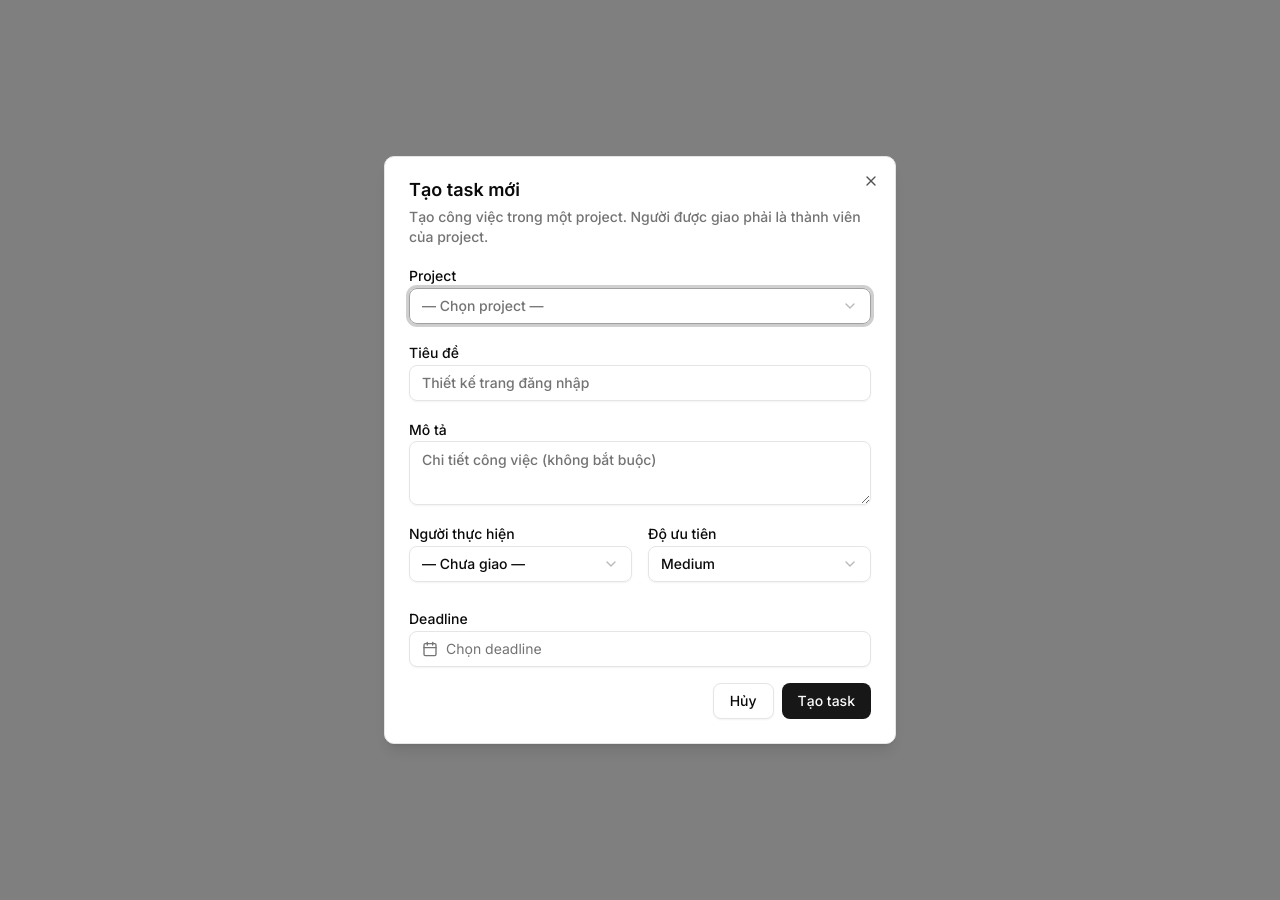
Test: <TaskFormDialog /> › requires a project before submitting
Type "Orphan" into the field with placeholder "Thiết kế trang đăng nhập" at (640, 383), box [409,365,871,401]
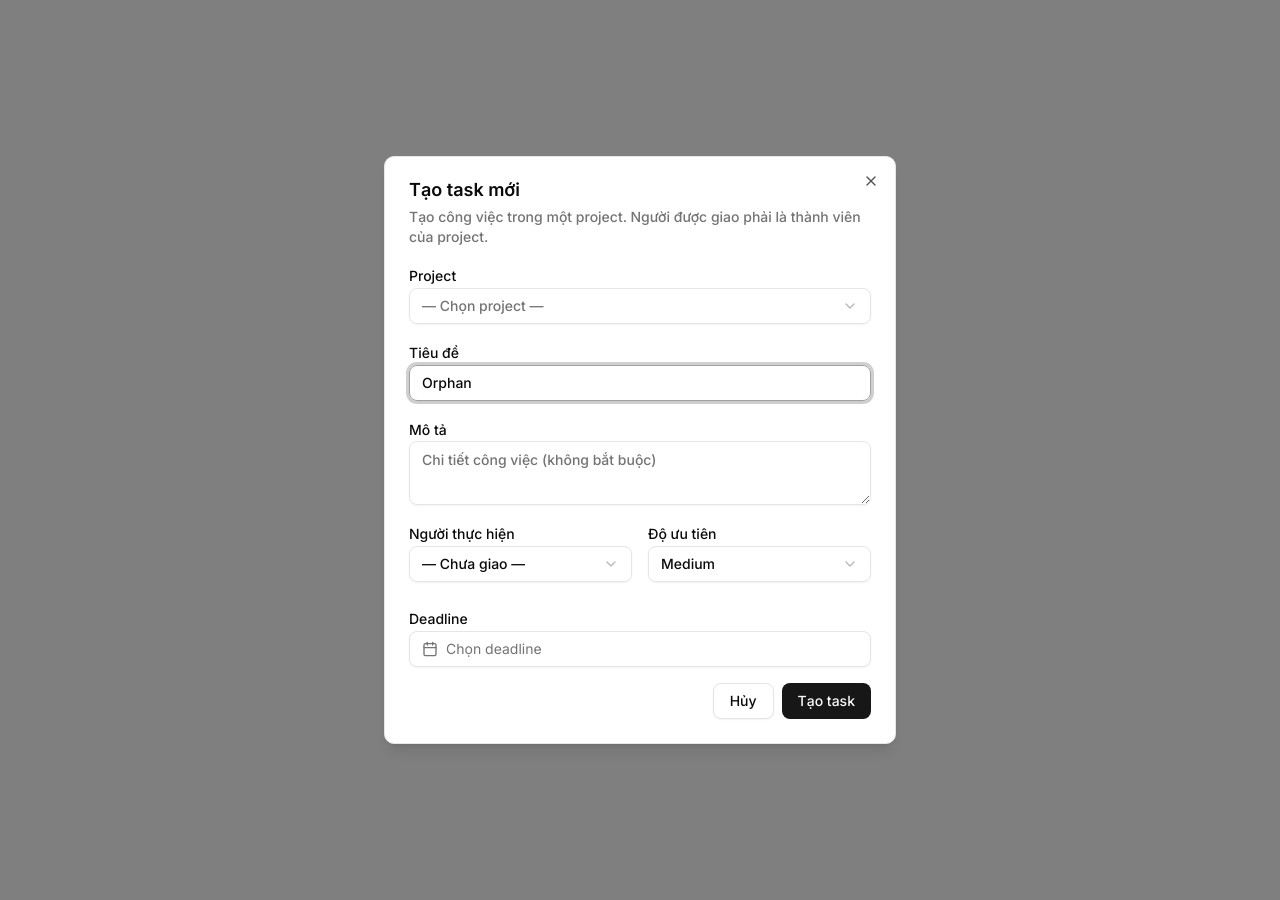
Click the button "Tạo task" at (826, 701), box [782,683,871,719]
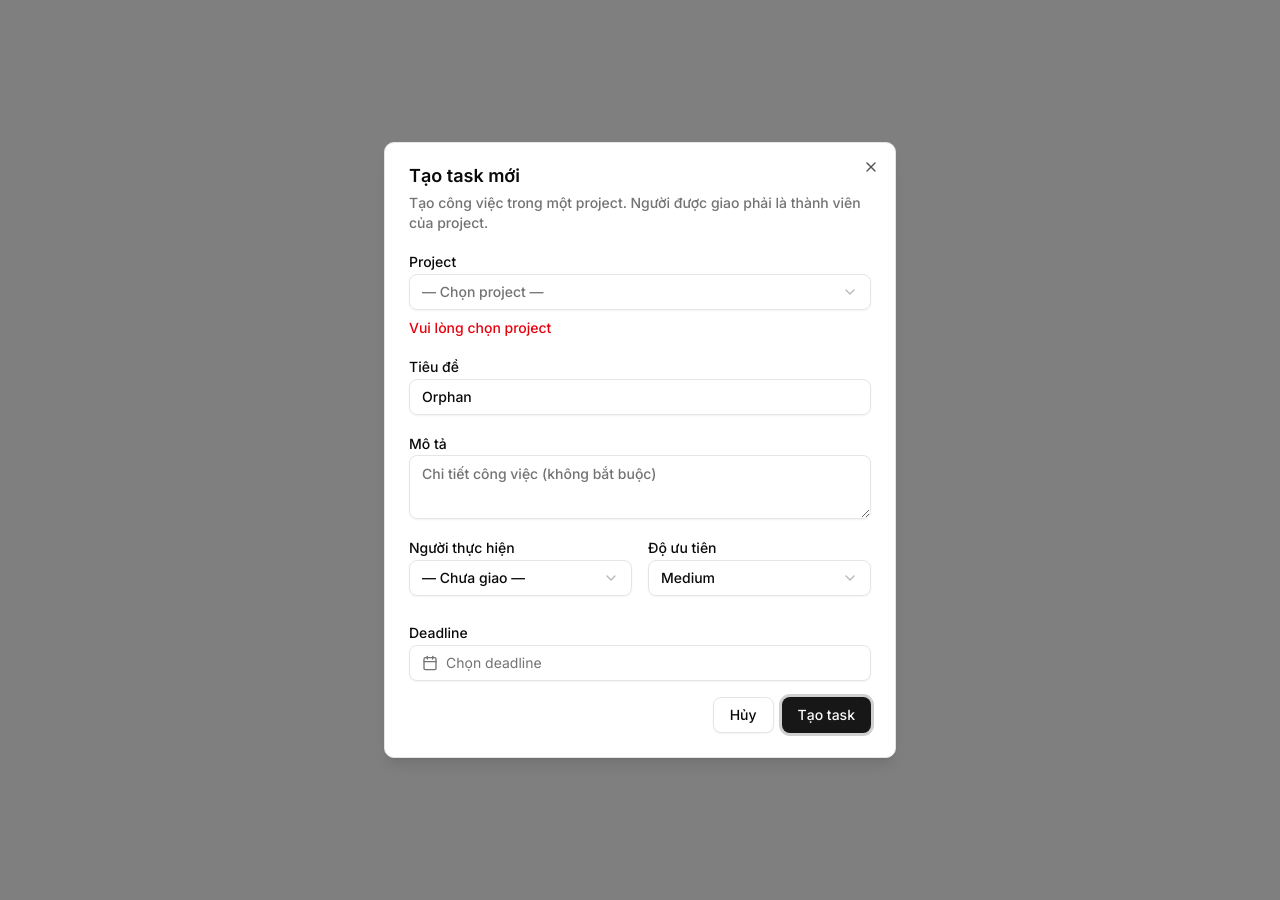
Check: the text "Vui lòng chọn project" is shown, box [409,319,551,336]
